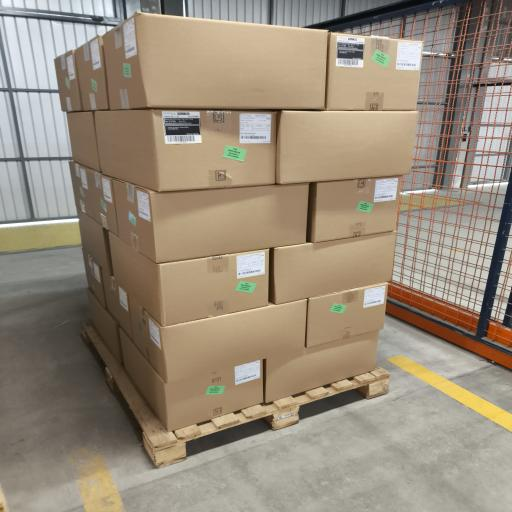pallet: (81, 323, 389, 466), (0, 488, 8, 511)
